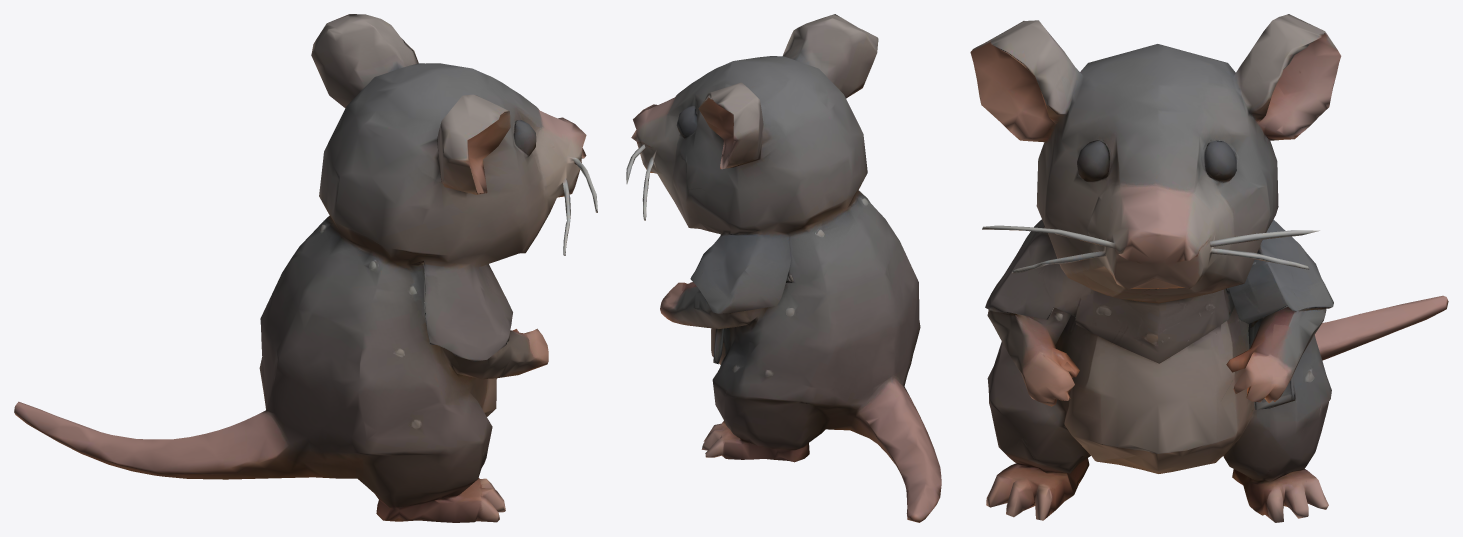
The model's file is rat.glb.
3 renders of one model, left to right at view 1: azimuth 30°, elevation 25°; view 2: azimuth 150°, elevation 25°; view 3: azimuth 270°, elevation 25°, orthographic. The views are drawn at different scales.
Parts seen in each view (by area): view 1: tripo_node_0e839fe5-b1b2-48b1-8ef6-cd25dee5e58e; view 2: tripo_node_0e839fe5-b1b2-48b1-8ef6-cd25dee5e58e; view 3: tripo_node_0e839fe5-b1b2-48b1-8ef6-cd25dee5e58e.
Boxes of the visible parts, x1,y1,x2,y2 form: tripo_node_0e839fe5-b1b2-48b1-8ef6-cd25dee5e58e: (14, 14, 597, 522); tripo_node_0e839fe5-b1b2-48b1-8ef6-cd25dee5e58e: (626, 14, 941, 522); tripo_node_0e839fe5-b1b2-48b1-8ef6-cd25dee5e58e: (970, 14, 1448, 522).
Bounding box in the file's own units: 1 × 0.9065 × 0.8151.
1 material, 1 textured.
